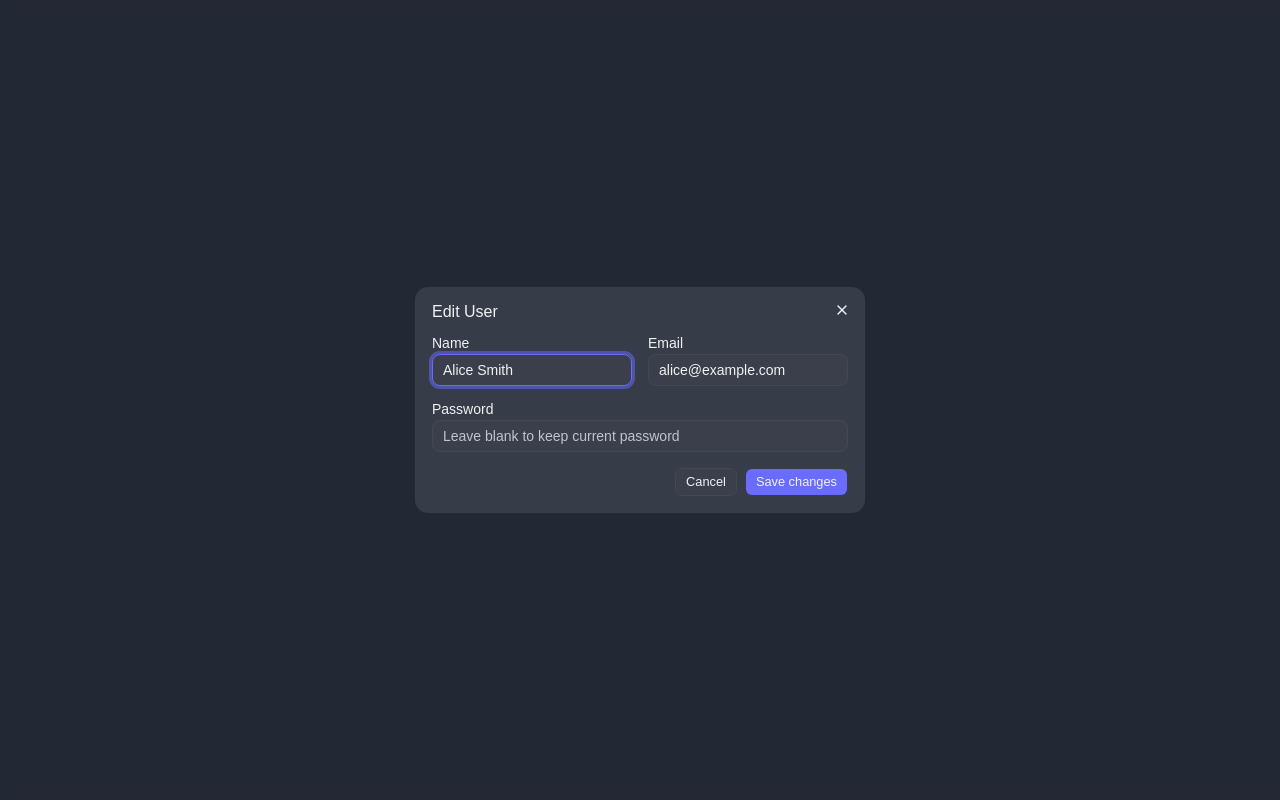
Scenario: edit mode › shows a validation error for a short new password
Type "short" into the password field labelled "Password" at (640, 436), box [432, 420, 848, 452]
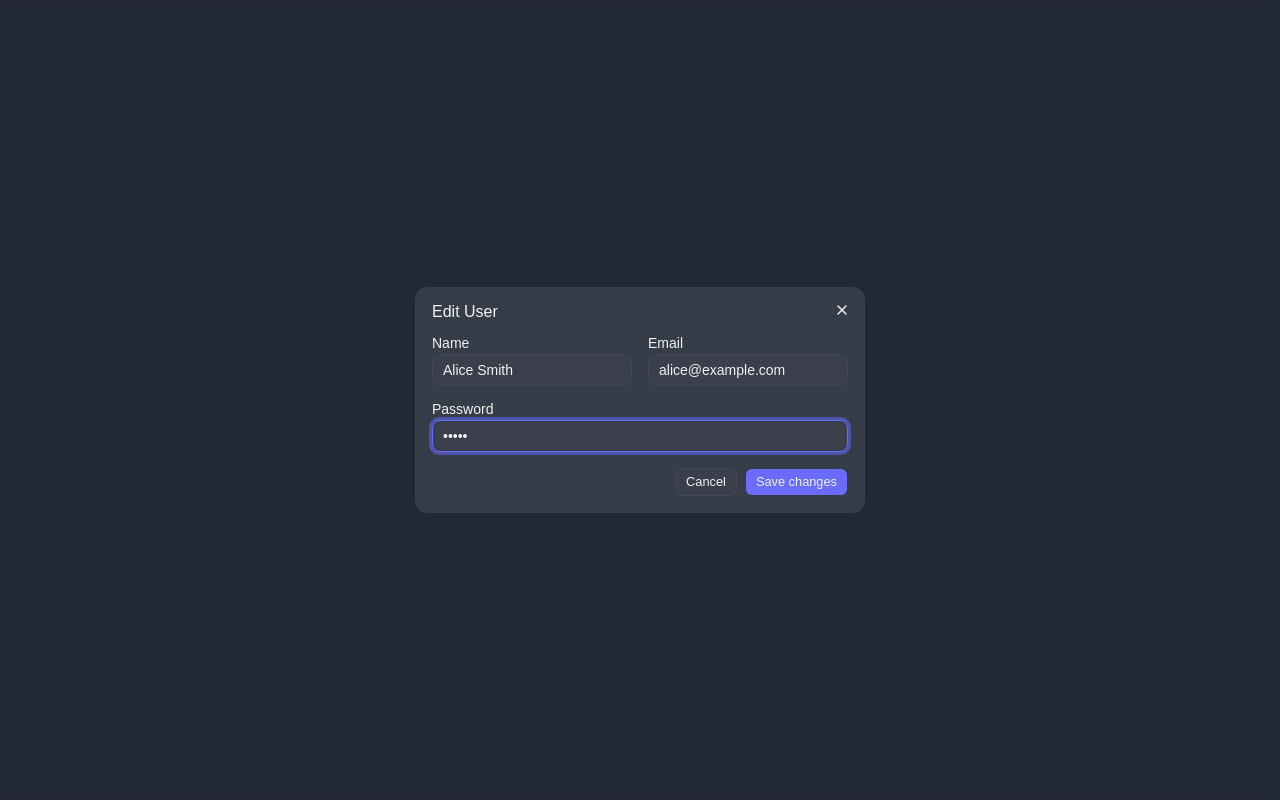
Click the button "Save changes" at (796, 482), box [745, 468, 848, 496]
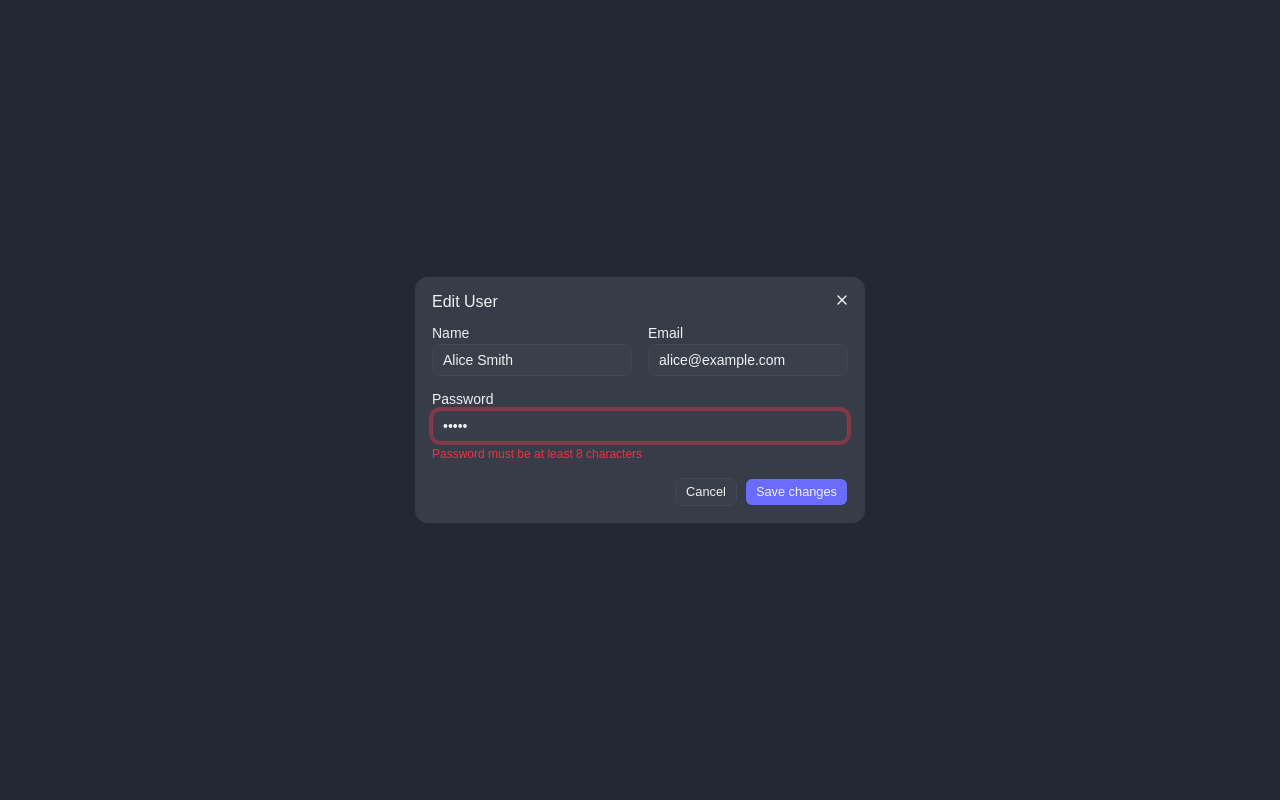
Result: the text "Password must be at least 8 characters" is shown at [432, 447, 642, 461]
